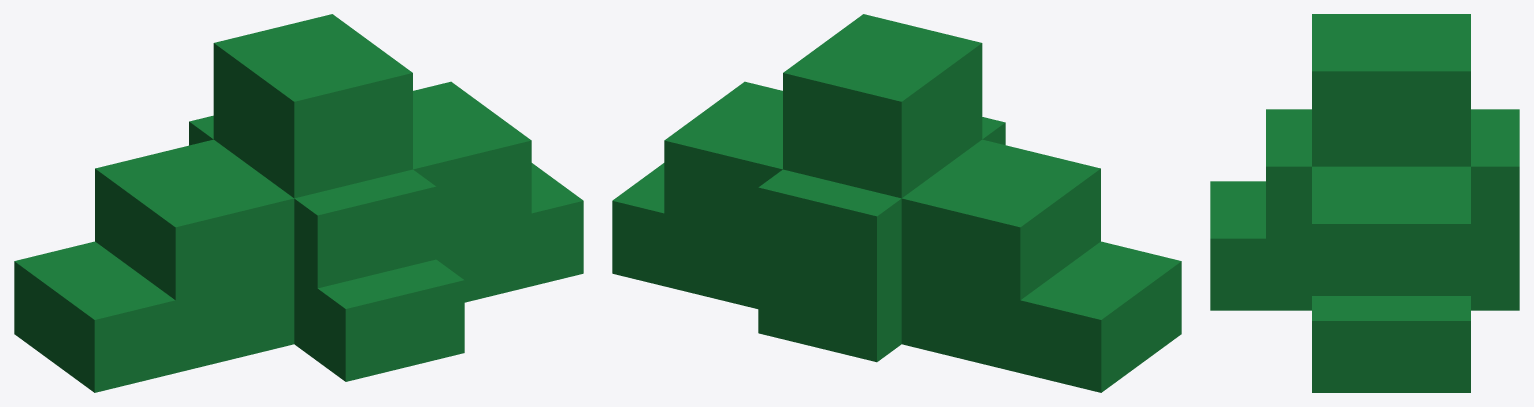
The picture shows the model from 3 angles, left to right: view 1: azimuth 30°, elevation 25°; view 2: azimuth 150°, elevation 25°; view 3: azimuth 270°, elevation 25°; orthographic projection.
Visible parts, largest first — view 1: 立方体.002; view 2: 立方体.002; view 3: 立方体.002.
Part boxes in pixels (bbox=[...]): 立方体.002: bbox=[14, 14, 583, 392]; 立方体.002: bbox=[612, 14, 1181, 392]; 立方体.002: bbox=[1210, 14, 1519, 392].
Bounding box in the file's own units: 702 × 332 × 389.
